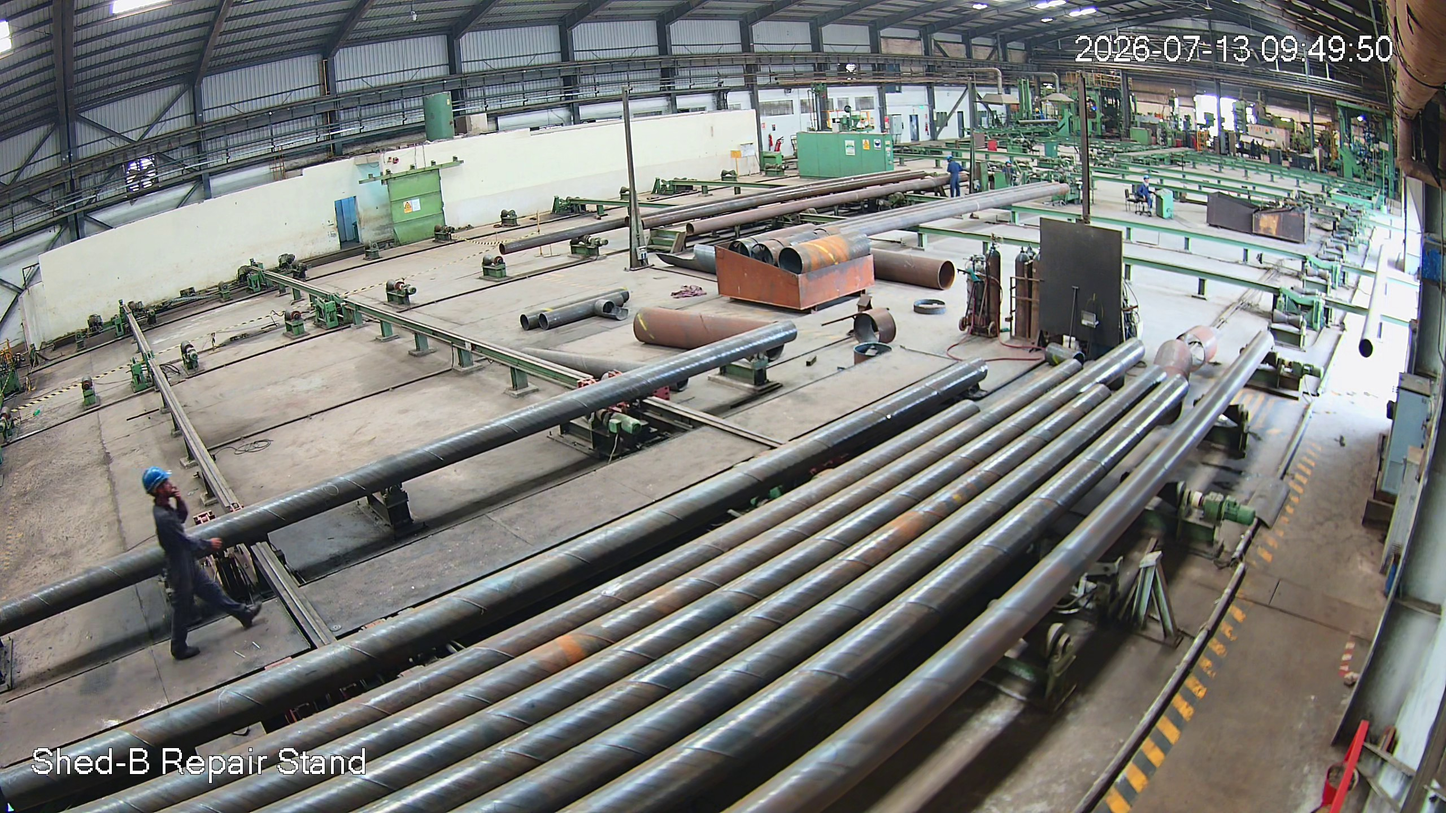Helmet: (136, 463, 186, 515)
Person: (136, 465, 263, 660)
